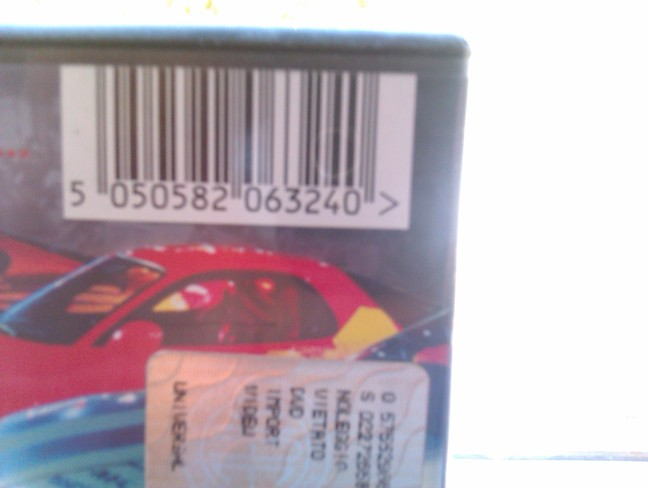detection: (63, 64, 418, 227)
